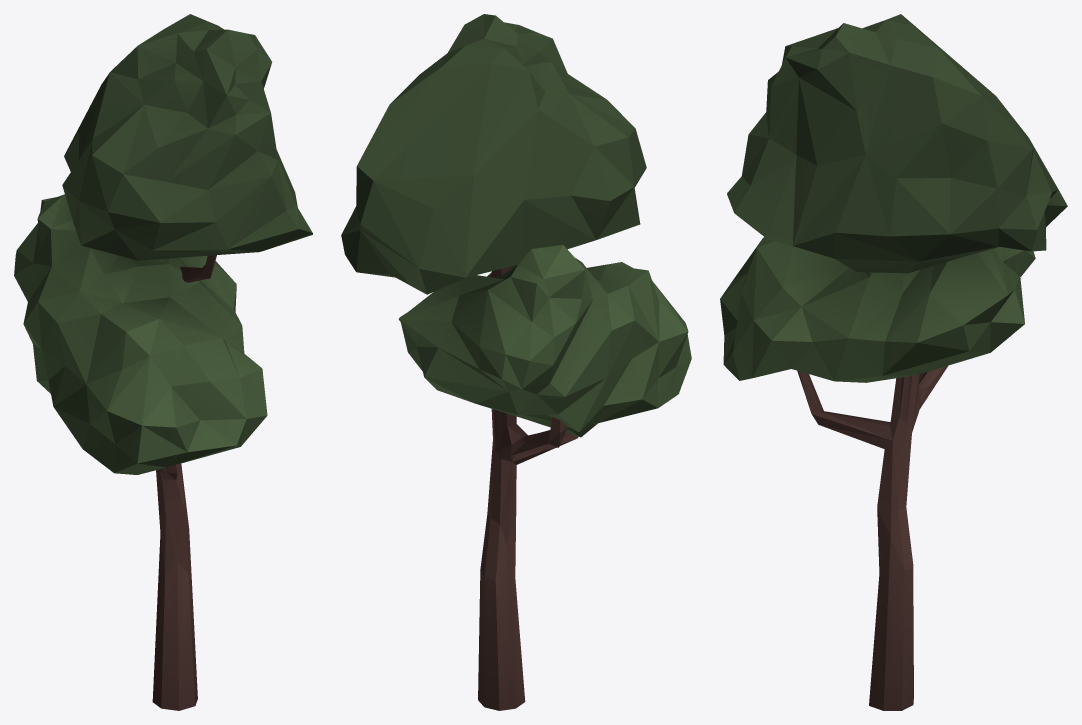
Rendered from tree-common-3.glb.
The picture shows the model from 3 angles, left to right: view 1: azimuth 30°, elevation 25°; view 2: azimuth 150°, elevation 25°; view 3: azimuth 270°, elevation 25°; orthographic projection. The views are drawn at different scales.
Parts seen in each view (by area): view 1: tree-common-3; view 2: tree-common-3; view 3: tree-common-3.
Part boxes in pixels (x1,y1,x2,y2): tree-common-3: (14, 14, 312, 710); tree-common-3: (341, 14, 691, 710); tree-common-3: (720, 14, 1067, 710).
Size of the model in its own units: 2.22 by 6 by 2.73.
